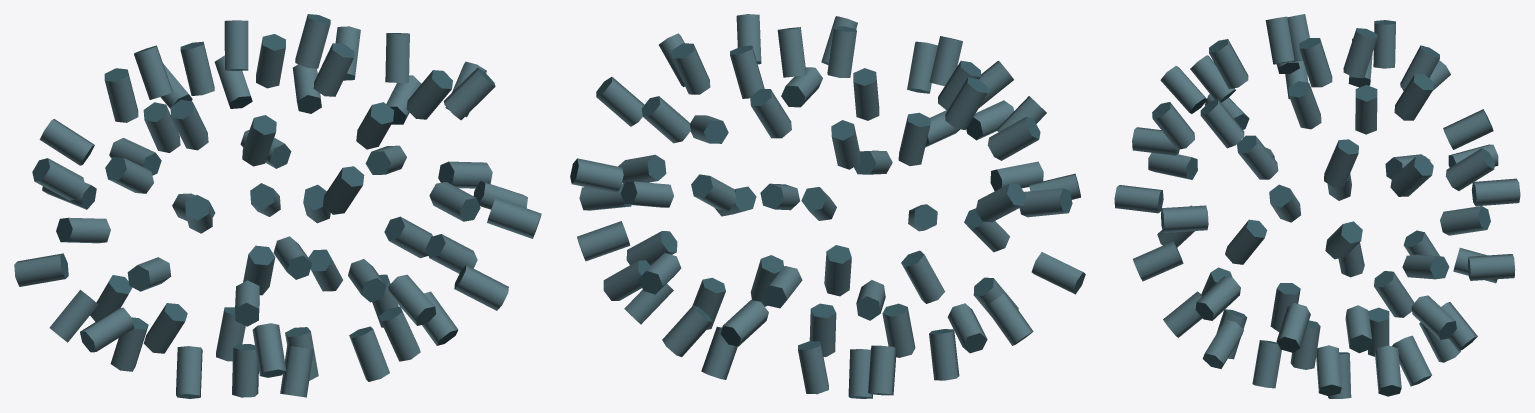
3 renders of one model, left to right at view 1: azimuth 30°, elevation 25°; view 2: azimuth 150°, elevation 25°; view 3: azimuth 270°, elevation 25°, orthographic. The views are drawn at different scales.
Visible parts, largest first — view 1: base.493; view 2: base.493; view 3: base.493.
Boxes of the visible parts, left/top/right/bottom form: base.493: left=14, top=14, right=541, bottom=398; base.493: left=570, top=14, right=1085, bottom=398; base.493: left=1114, top=14, right=1520, bottom=398.
Size of the model in its own units: 0.5 by 0.3565 by 0.4143.
